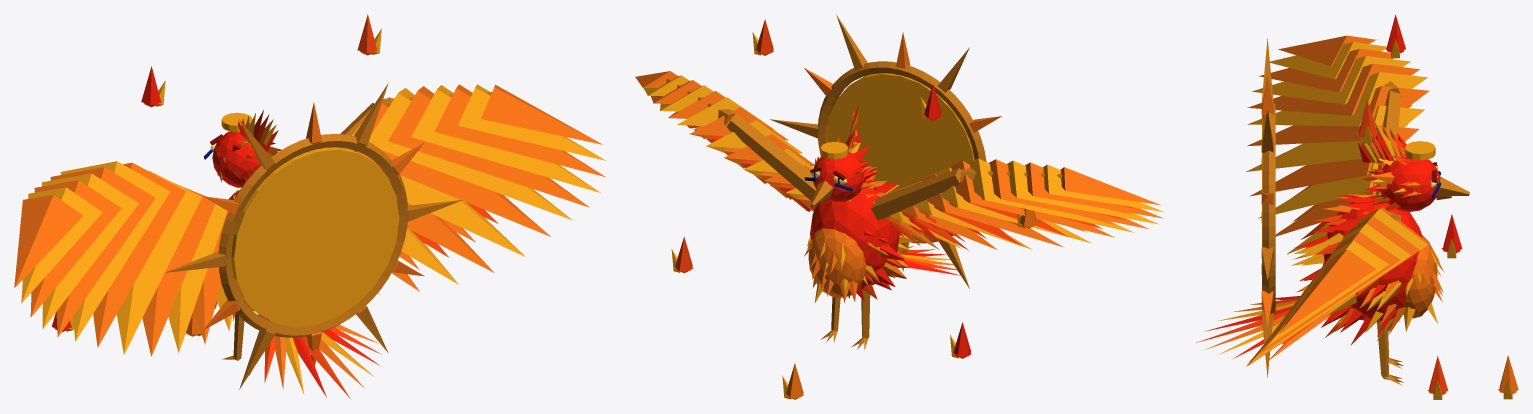
Rendered from ra_phoenix.obj.
3 views of the same model, side by side, from view 1: azimuth 30°, elevation 25°; view 2: azimuth 150°, elevation 25°; view 3: azimuth 270°, elevation 25° (orthographic). The views are drawn at different scales.
Visible parts, largest first — view 1: Sun_6_m38, WingL_3_m21, WingL_3_m20, WingR_4_m26, WingR_4_m25, Sun_6_m39, Sun_6_m40, Head_2_m5, Tail_5_m33, Tail_5_m30, Head_2_m18, Tail_5_m31; view 2: Sun_6_m38, WingL_3_m21, WingL_3_m20, Sun_6_m39, Body_1_m1, WingR_4_m26, Body_1_m2, WingR_4_m25, WingR_4_m24, WingL_3_m19, Head_2_m5, WingL_3_m22 (+4 smaller); view 3: WingL_3_m21, WingL_3_m20, WingR_4_m26, Body_1_m1, WingR_4_m25, Sun_6_m39, Body_1_m2, Head_2_m5, Body_1_m3, Head_2_m18, WingL_3_m19, Sun_6_m40 (+14 smaller).
Part boxes in pixels (left/top/right/bottom): Sun_6_m38: left=231, top=147, right=399, bottom=327; WingL_3_m21: left=14, top=162, right=228, bottom=356; WingL_3_m20: left=21, top=161, right=232, bottom=354; WingR_4_m26: left=350, top=84, right=605, bottom=291; WingR_4_m25: left=352, top=84, right=605, bottom=294; Sun_6_m39: left=164, top=83, right=462, bottom=389; Sun_6_m40: left=203, top=102, right=424, bottom=365; Head_2_m5: left=212, top=131, right=275, bottom=187; Tail_5_m33: left=293, top=330, right=379, bottom=397; Tail_5_m30: left=264, top=336, right=350, bottom=398; Head_2_m18: left=221, top=112, right=276, bottom=145; Tail_5_m31: left=275, top=324, right=378, bottom=389; Sun_6_m38: left=827, top=73, right=974, bottom=232; WingL_3_m21: left=887, top=159, right=1163, bottom=249; WingL_3_m20: left=888, top=158, right=1163, bottom=249; Sun_6_m39: left=770, top=15, right=986, bottom=288; Body_1_m1: left=810, top=179, right=904, bottom=300; WingR_4_m26: left=635, top=71, right=814, bottom=211; Body_1_m2: left=804, top=170, right=906, bottom=302; WingR_4_m25: left=643, top=75, right=813, bottom=199; WingR_4_m24: left=666, top=78, right=816, bottom=205; WingL_3_m19: left=870, top=168, right=1062, bottom=220; Head_2_m5: left=812, top=146, right=877, bottom=201; WingL_3_m22: left=892, top=198, right=1134, bottom=250; WingL_3_m21: left=1247, top=35, right=1429, bottom=236; WingL_3_m20: left=1246, top=42, right=1427, bottom=254; WingR_4_m26: left=1247, top=207, right=1429, bottom=365; Body_1_m1: left=1294, top=195, right=1422, bottom=345; WingR_4_m25: left=1246, top=208, right=1427, bottom=366; Sun_6_m39: left=1261, top=38, right=1275, bottom=377; Body_1_m2: left=1293, top=194, right=1444, bottom=335; Head_2_m5: left=1365, top=157, right=1440, bottom=211; Body_1_m3: left=1291, top=195, right=1441, bottom=340; Head_2_m18: left=1360, top=121, right=1435, bottom=162; WingL_3_m19: left=1375, top=81, right=1401, bottom=195; Sun_6_m40: left=1261, top=75, right=1273, bottom=327.
Bounding box in the file's own units: 9.62 × 5.46 × 4.63.
